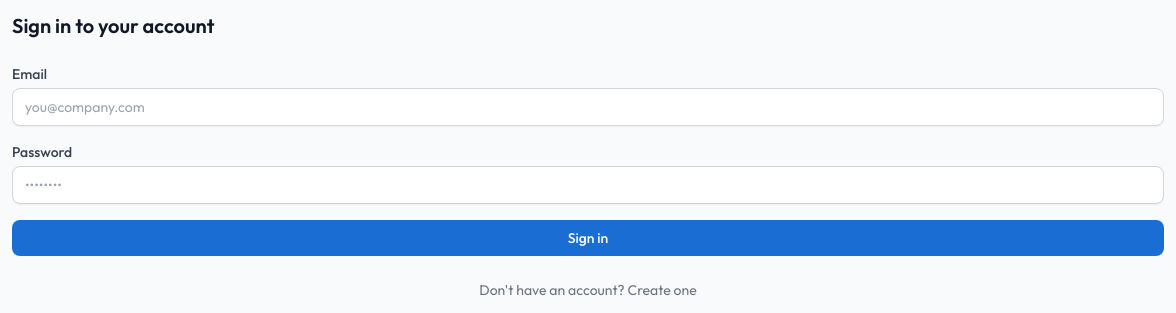
it: LoginPage › disables the submit button while loading
Step 1. Type "user@example.com" into the field labelled "Email" → (588, 107), box x1=12 y1=88 x2=1164 y2=126
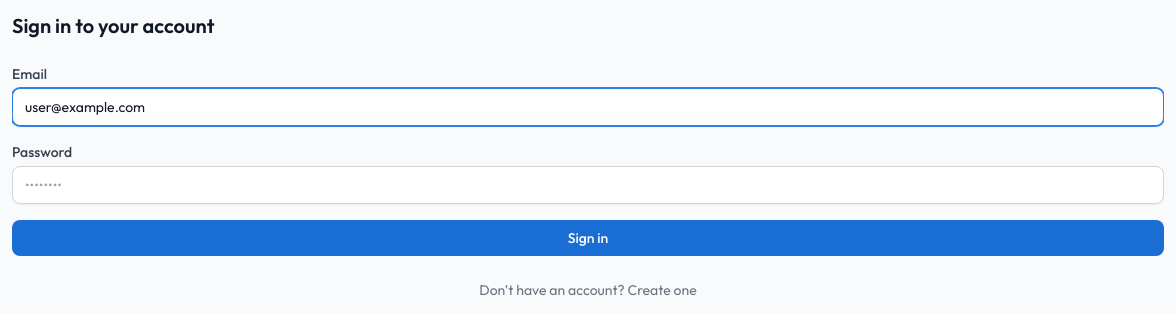
Step 2. Type "pass" into the password field labelled "Password" → (588, 185), box x1=12 y1=166 x2=1164 y2=204
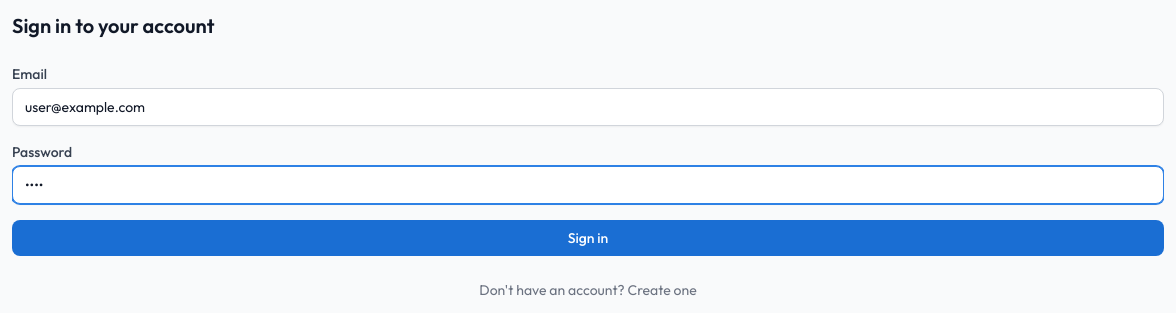
Step 3. Click the button "Sign in" → (588, 238), box x1=12 y1=220 x2=1164 y2=256
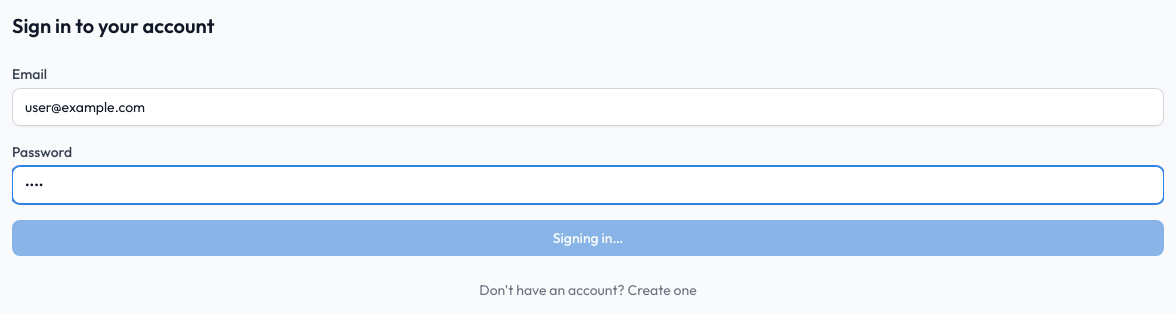
Now the button "Signing in…" is disabled, box x1=12 y1=220 x2=1164 y2=256
